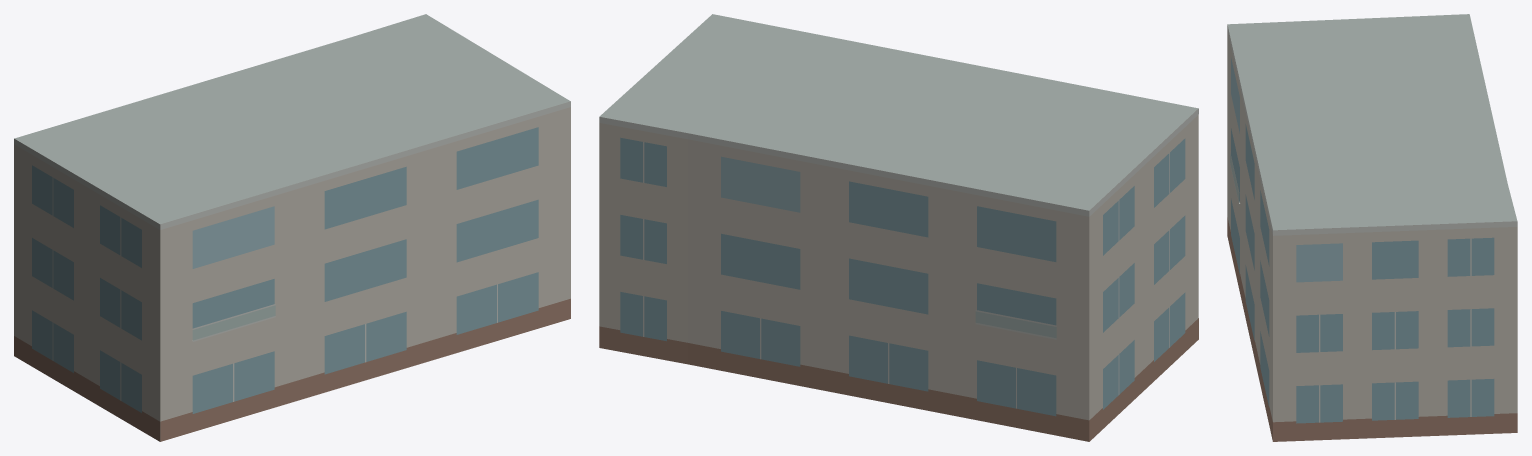
The model's file is survey-upis-32758358.glb.
The picture shows the model from 3 angles, left to right: view 1: azimuth 30°, elevation 25°; view 2: azimuth 150°, elevation 25°; view 3: azimuth 270°, elevation 25°; orthographic projection. The views are drawn at different scales.
Parts seen in each view (by area): view 1: survey-upis-32758358.tmp; view 2: survey-upis-32758358.tmp; view 3: survey-upis-32758358.tmp.
Part boxes in pixels (bbox=[...]): survey-upis-32758358.tmp: bbox=[14, 14, 570, 441]; survey-upis-32758358.tmp: bbox=[599, 14, 1198, 441]; survey-upis-32758358.tmp: bbox=[1227, 14, 1517, 441].
Size of the model in its own units: 20.4 by 9.3 by 11.57.
